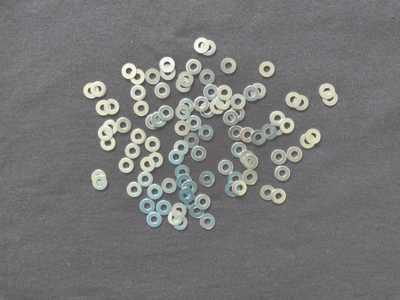circle: (259, 60, 277, 79), (99, 135, 117, 153), (90, 80, 108, 98), (200, 213, 217, 232), (243, 85, 260, 103), (260, 184, 277, 202), (193, 36, 210, 54), (95, 100, 113, 117), (273, 167, 292, 183), (251, 81, 267, 100), (200, 68, 216, 87), (84, 81, 100, 100), (321, 90, 338, 107), (293, 95, 310, 112), (287, 147, 304, 164), (271, 149, 288, 166), (269, 120, 286, 137), (230, 94, 247, 111), (221, 58, 238, 75), (200, 40, 217, 57), (175, 77, 192, 94), (154, 83, 171, 100), (158, 105, 175, 122), (101, 119, 118, 136), (224, 109, 240, 127), (169, 149, 185, 167), (173, 120, 189, 138), (186, 58, 202, 76), (270, 111, 287, 127), (226, 183, 242, 200), (217, 84, 233, 101), (216, 95, 232, 112), (195, 194, 212, 210), (146, 212, 163, 228), (147, 184, 163, 201), (126, 183, 143, 199), (140, 157, 156, 174), (148, 153, 164, 170), (198, 125, 215, 141), (174, 139, 190, 156), (186, 115, 202, 132), (179, 97, 195, 114), (193, 97, 210, 113), (200, 102, 216, 119), (159, 65, 176, 81), (159, 56, 176, 72), (145, 68, 161, 85), (133, 101, 150, 117), (146, 114, 162, 131), (130, 129, 147, 145), (125, 144, 143, 159), (105, 99, 120, 117), (271, 189, 287, 205), (232, 181, 248, 197), (218, 160, 234, 176), (200, 171, 216, 187), (182, 180, 198, 196), (171, 203, 187, 219), (140, 199, 156, 215), (161, 178, 177, 194), (138, 172, 154, 188), (185, 133, 201, 149), (176, 105, 192, 121), (130, 70, 146, 86), (130, 85, 146, 101), (151, 112, 167, 128), (92, 176, 108, 192), (320, 85, 337, 100), (230, 107, 247, 122), (228, 172, 245, 187), (189, 204, 206, 219), (176, 175, 193, 190), (167, 211, 184, 226), (192, 146, 207, 163), (203, 85, 220, 100), (179, 71, 194, 88), (286, 93, 302, 108), (280, 119, 295, 135), (262, 125, 278, 140), (252, 130, 267, 146), (242, 170, 258, 185), (243, 155, 259, 170), (240, 150, 255, 166), (185, 195, 200, 211), (157, 200, 172, 216), (121, 64, 137, 79), (119, 158, 134, 174), (145, 137, 161, 152), (178, 189, 195, 203), (172, 217, 189, 231), (306, 130, 321, 145), (229, 126, 244, 141), (210, 100, 225, 115), (116, 118, 131, 133), (98, 126, 113, 141), (300, 135, 316, 149), (232, 143, 246, 159), (175, 165, 191, 179), (91, 170, 107, 184), (241, 128, 254, 143)
